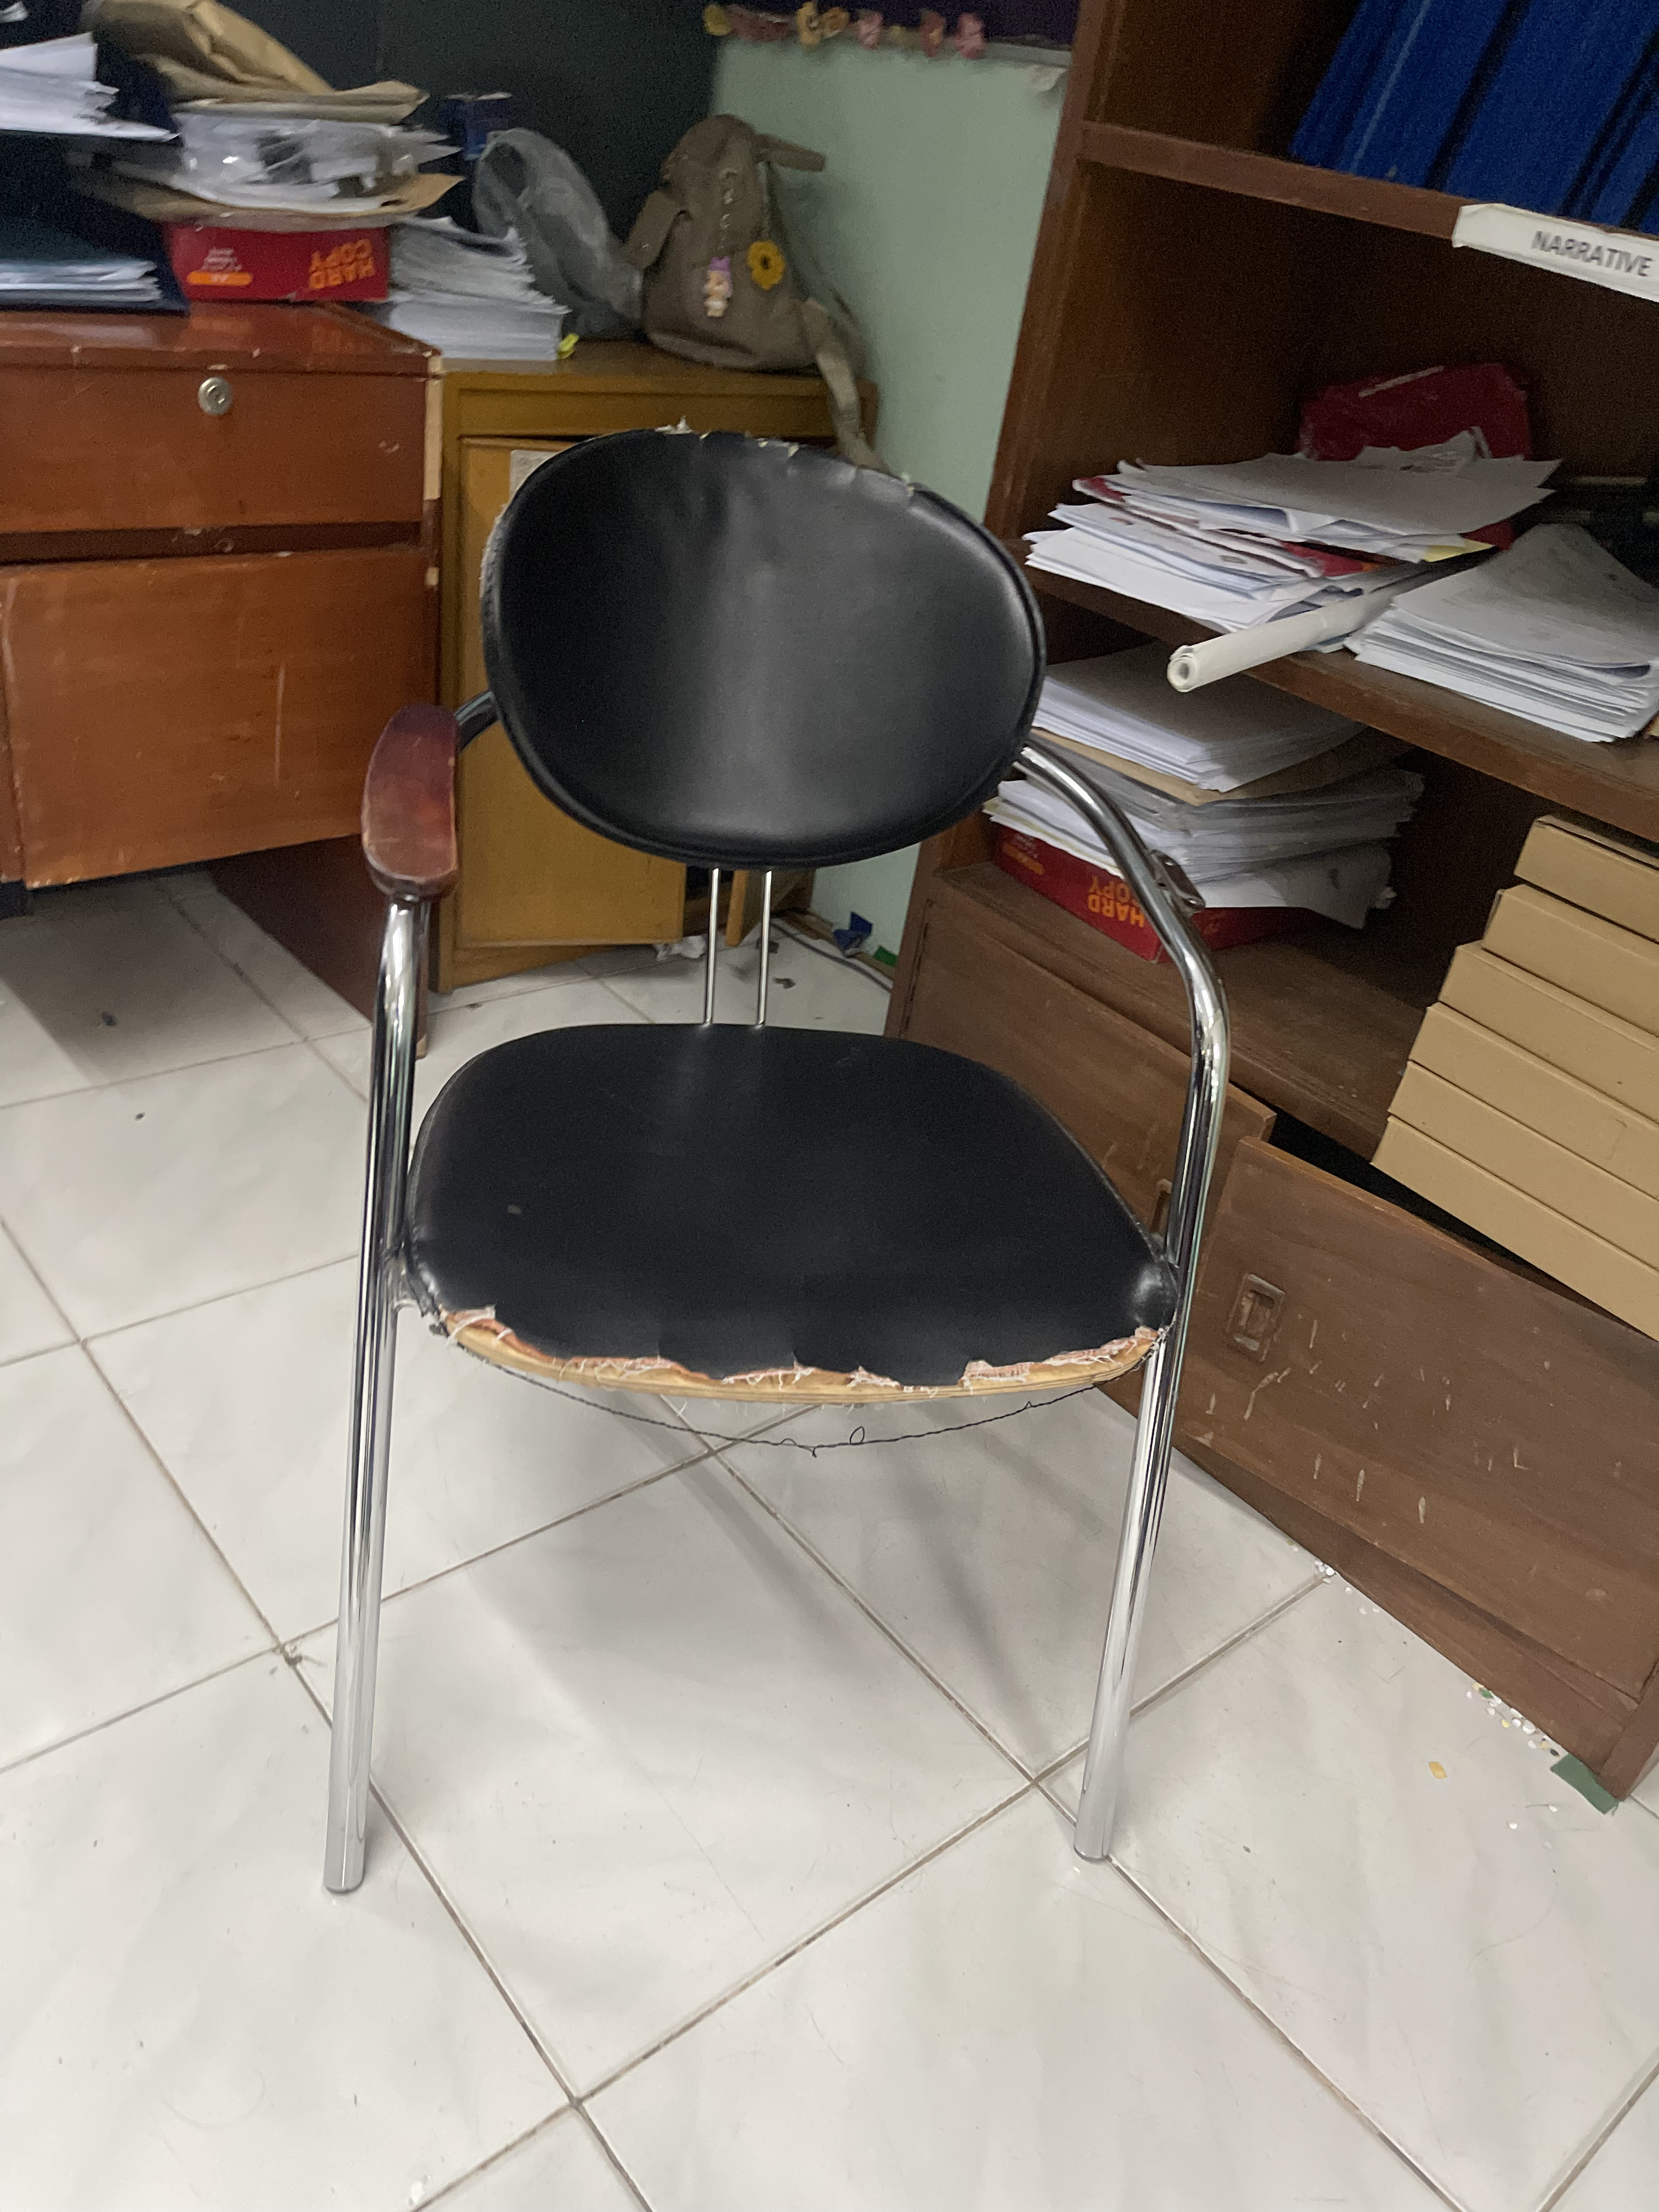chair1: (315, 420, 1237, 1914)
